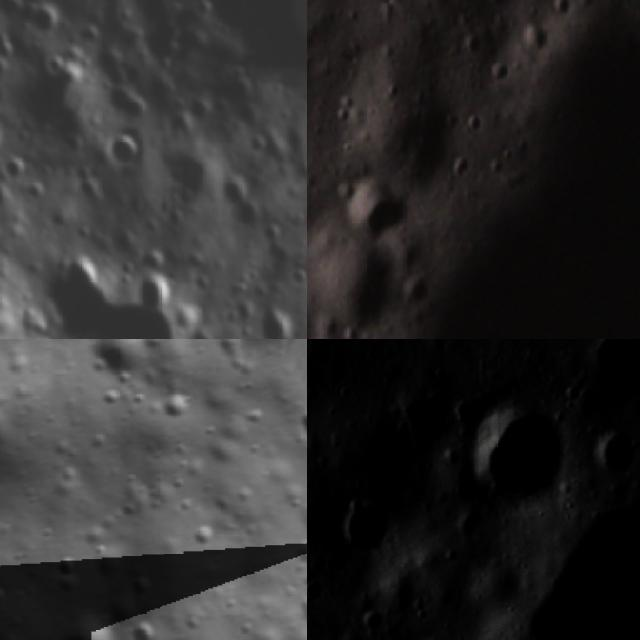crater: (12, 227, 215, 339), (455, 384, 582, 524), (331, 248, 415, 339), (323, 486, 400, 571), (335, 170, 409, 254), (150, 134, 223, 206), (570, 339, 640, 409), (0, 367, 35, 506), (95, 72, 156, 136), (74, 339, 165, 380), (587, 423, 640, 489), (46, 597, 126, 640), (236, 292, 307, 339), (123, 263, 182, 319), (142, 382, 201, 432), (99, 126, 146, 176), (17, 0, 69, 44), (186, 510, 229, 554), (400, 620, 481, 640), (19, 172, 58, 212), (122, 563, 161, 600), (284, 401, 307, 452), (0, 147, 29, 186), (50, 548, 82, 582), (307, 570, 327, 609), (307, 510, 324, 553), (0, 579, 8, 608)
